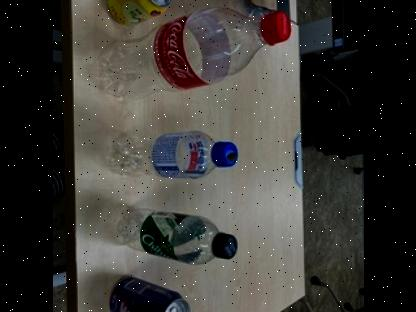Can: (104, 273, 195, 312), (101, 0, 175, 30)
Plastic Bottle: (94, 7, 292, 99), (110, 205, 242, 267), (102, 127, 240, 181)
